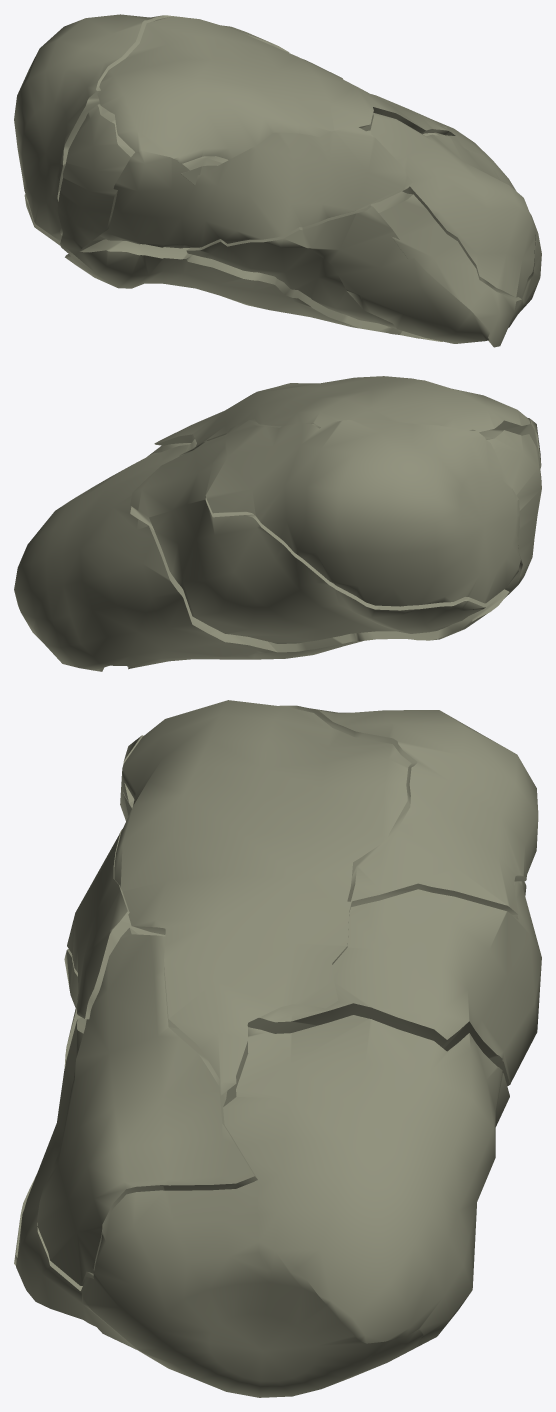
Rendered from Small_Rock.fbx.
The picture shows the model from 3 angles, top to bottom: view 1: azimuth 30°, elevation 25°; view 2: azimuth 150°, elevation 25°; view 3: azimuth 270°, elevation 25°; orthographic projection. The views are drawn at different scales.
Parts seen in each view (by area): view 1: shard1; view 2: shard1; view 3: shard1.
Boxes of the visible parts, x1,y1,x2,y2 form: shard1: [14, 14, 541, 347]; shard1: [14, 376, 541, 671]; shard1: [14, 700, 541, 1397].
Size of the model in its own units: 28.1 by 18.59 by 19.51.
